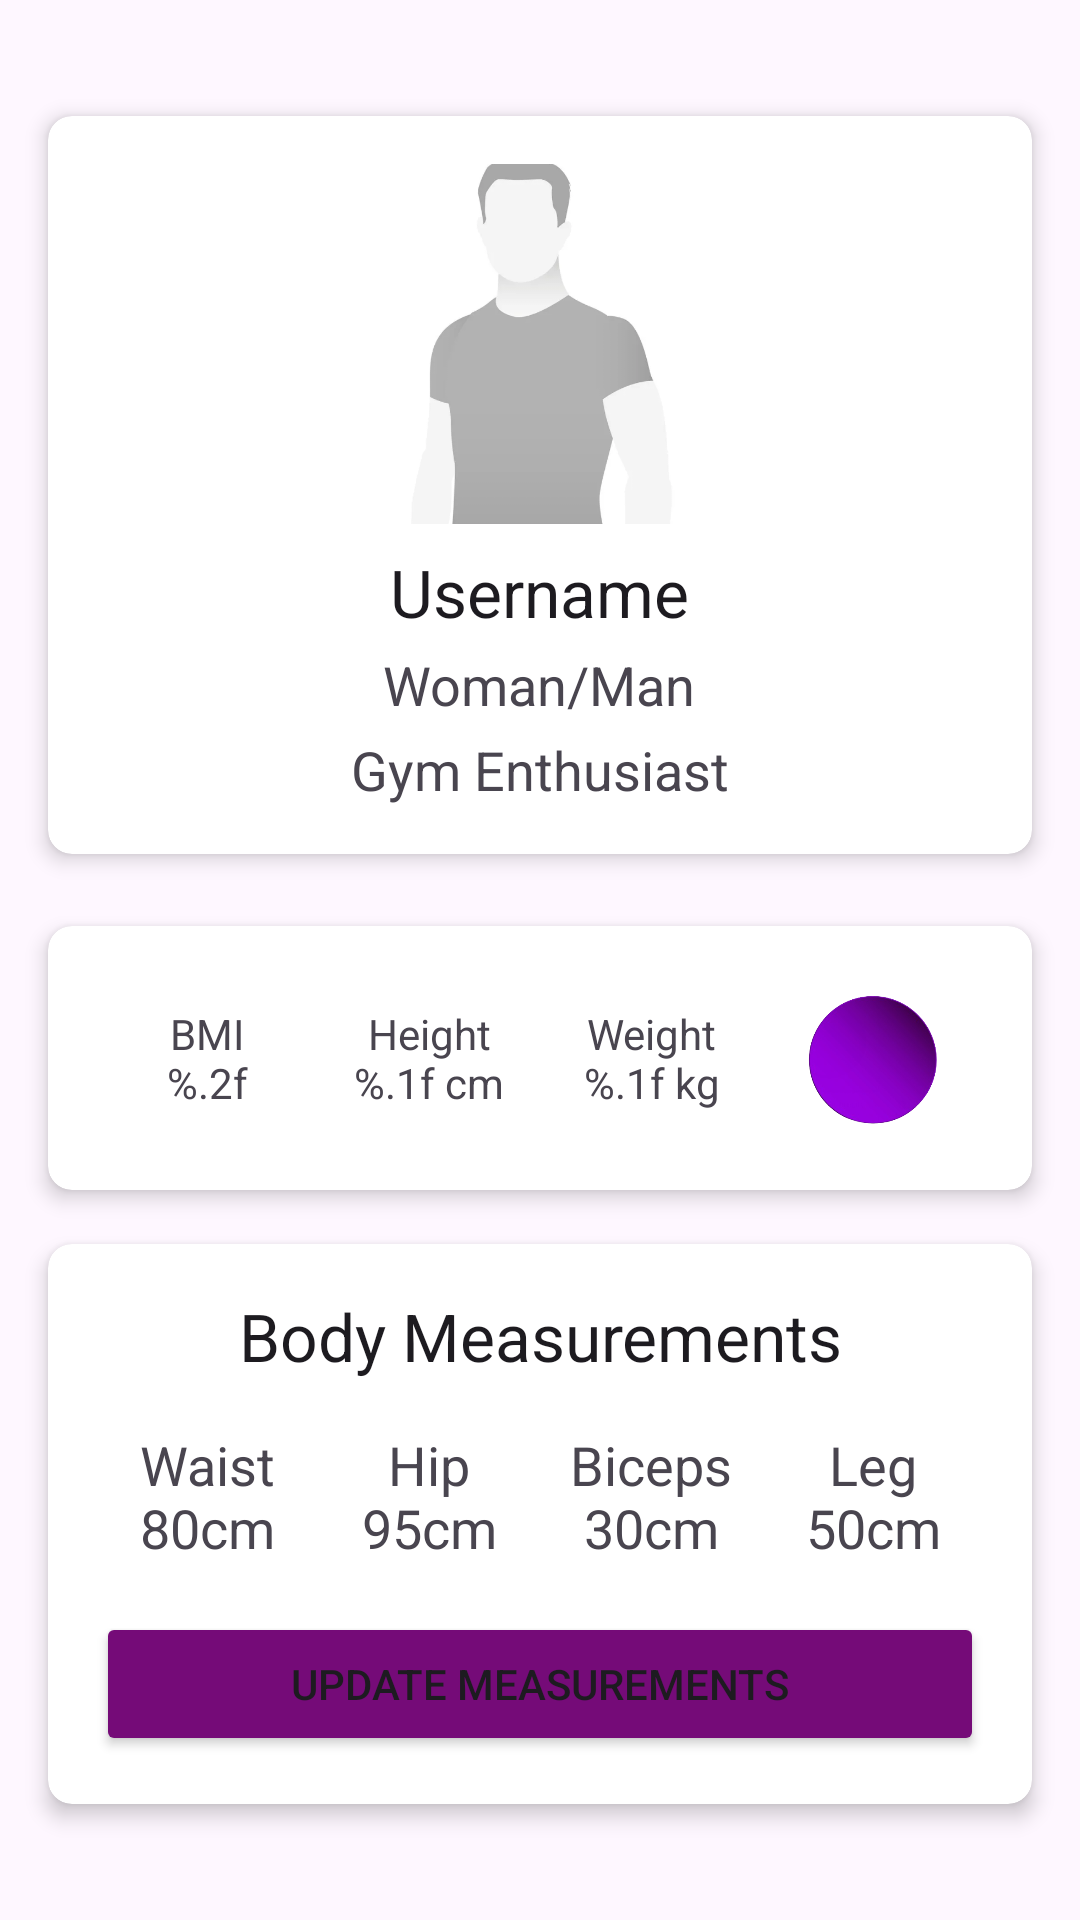

Icons on this 1080×1920 Android screen, each with the point to tap as point (x, y):
profile picture: point (541, 344)
